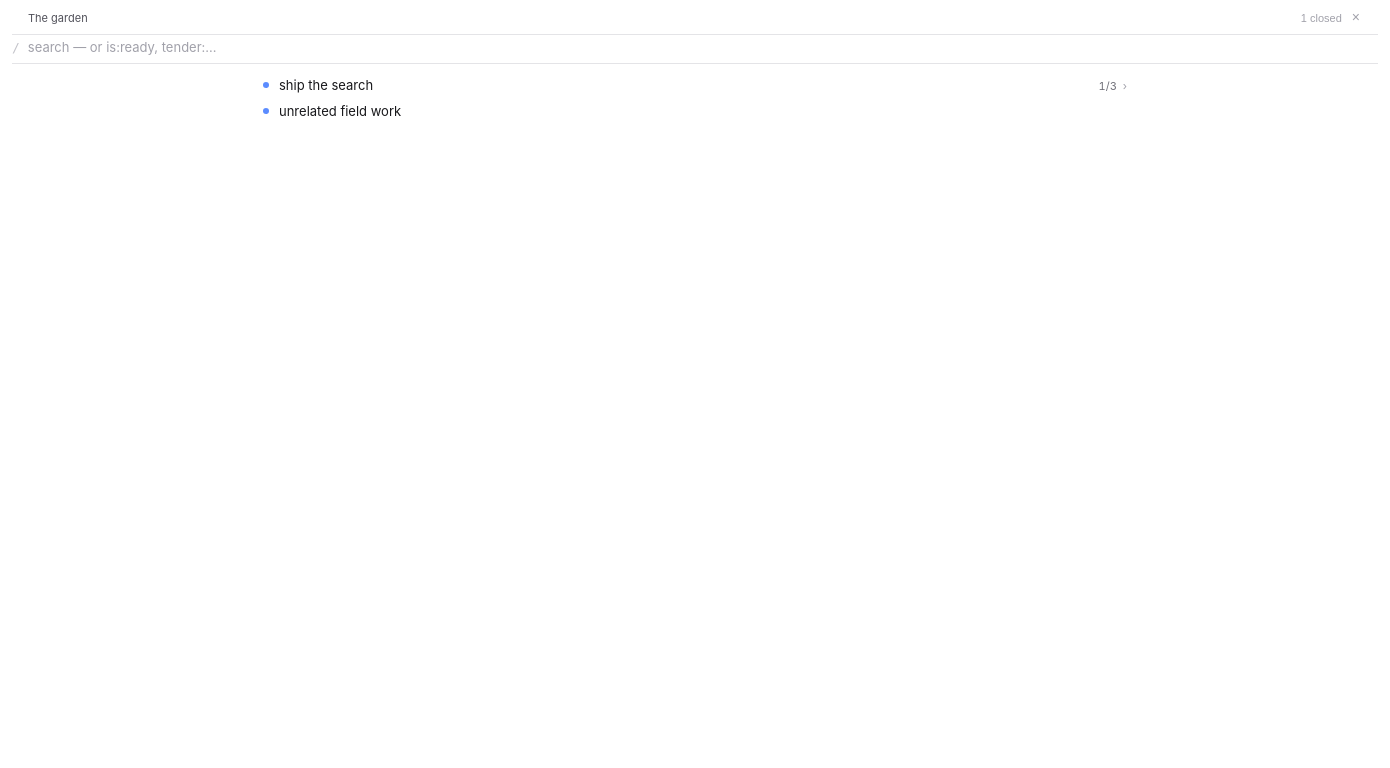
it: GardenPanel search › scope › searches the plot you are standing in, and says what the garden holds
Click the button "ship the search 1/3 ›": (326, 85) [255,72,1135,98]
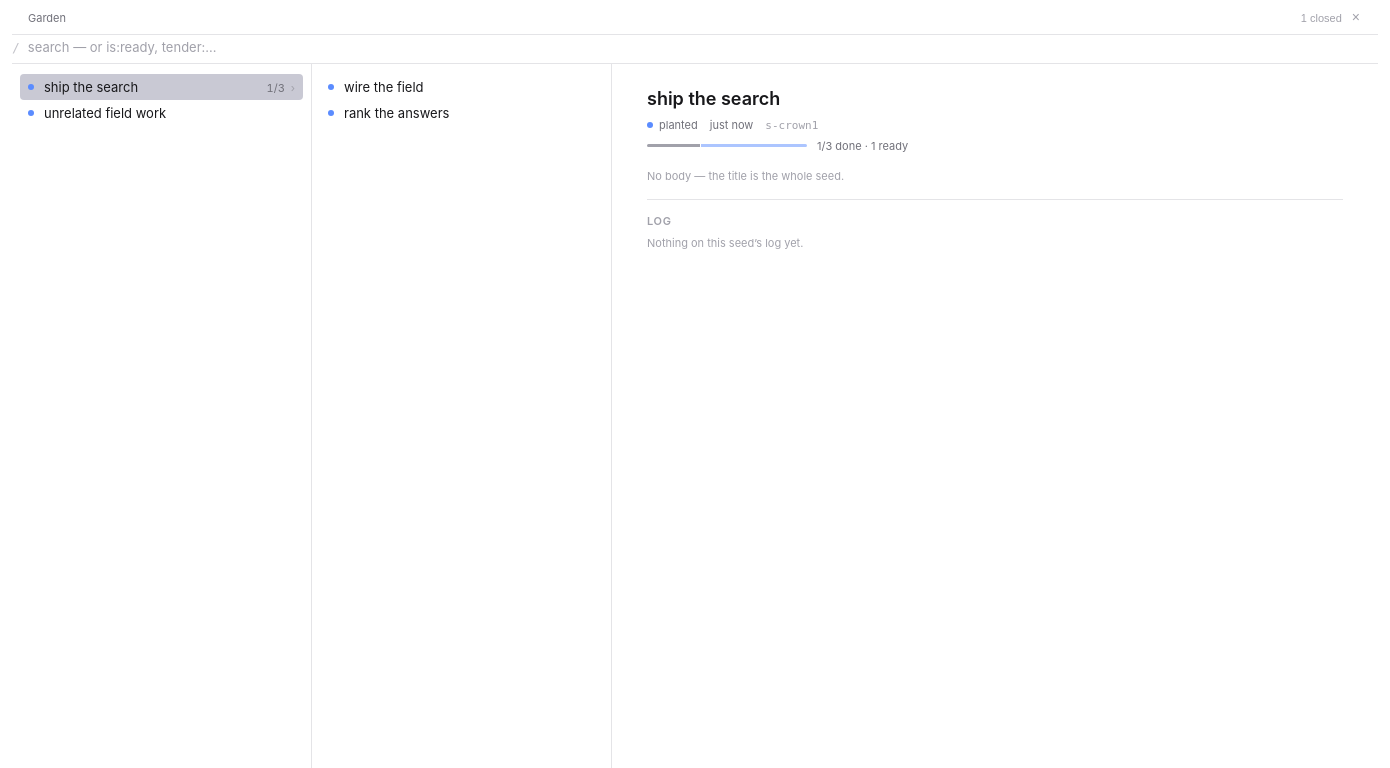
In the dropdown: (699, 47) [28,37,1370,57], type "field"
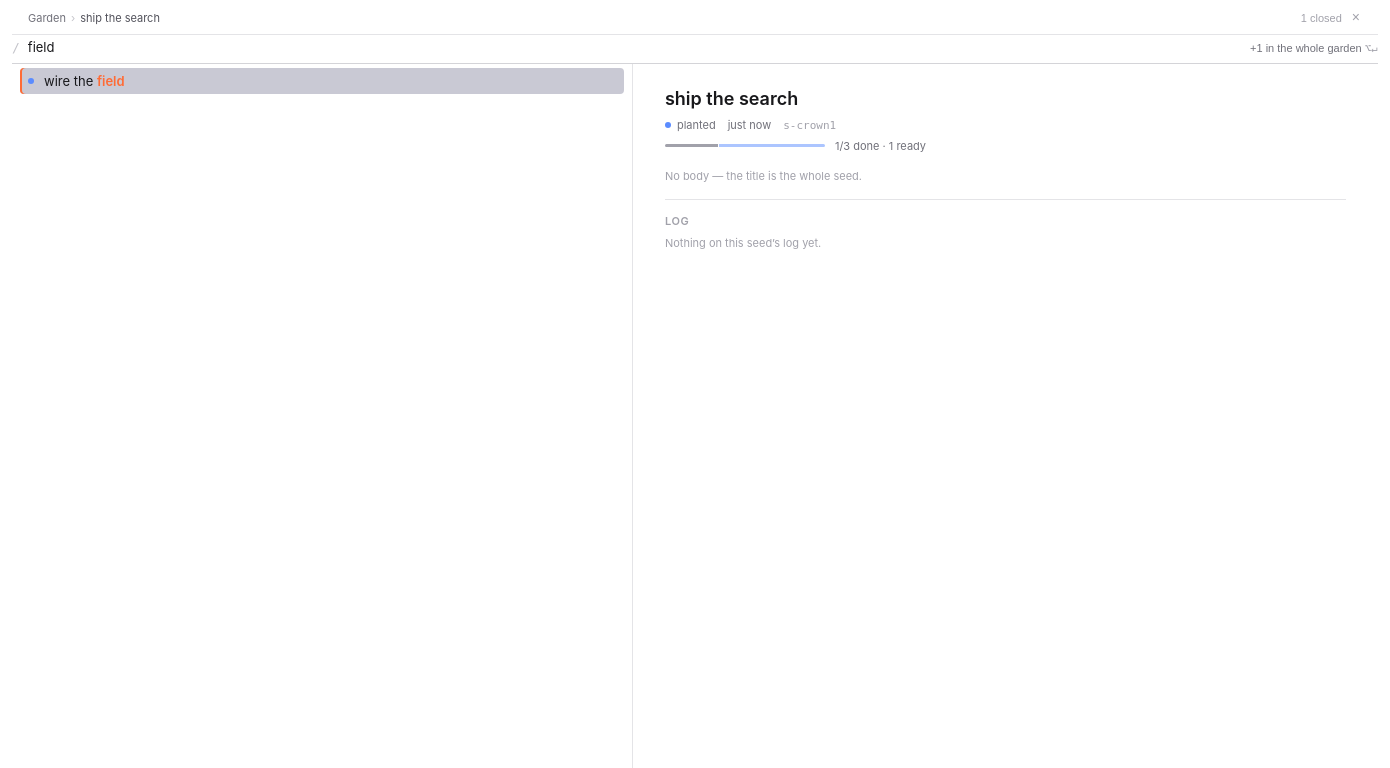
Expected: the button "+1 in the whole garden ⌥↵" is shown, [1250,42,1378,55]
